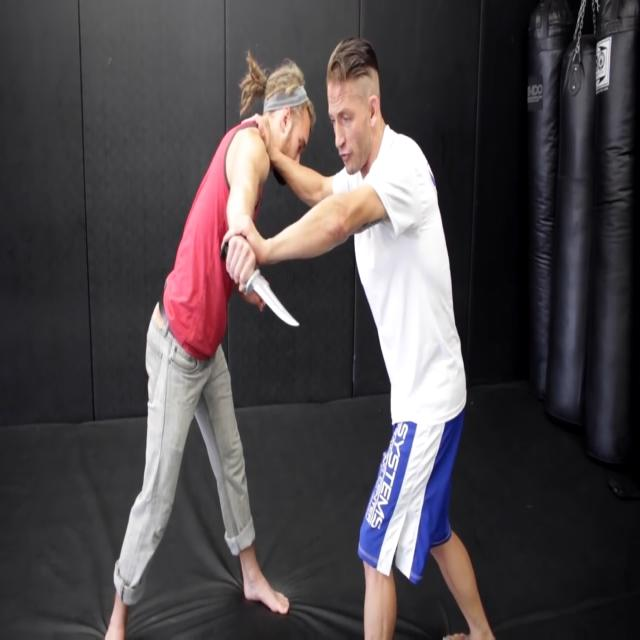knife: (249, 266, 307, 343)
